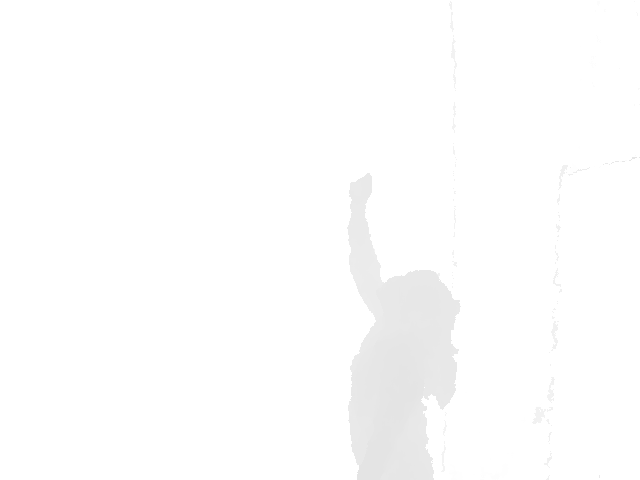hand: (348, 173, 374, 206)
head: (378, 268, 463, 341)
person: (347, 172, 462, 480)
